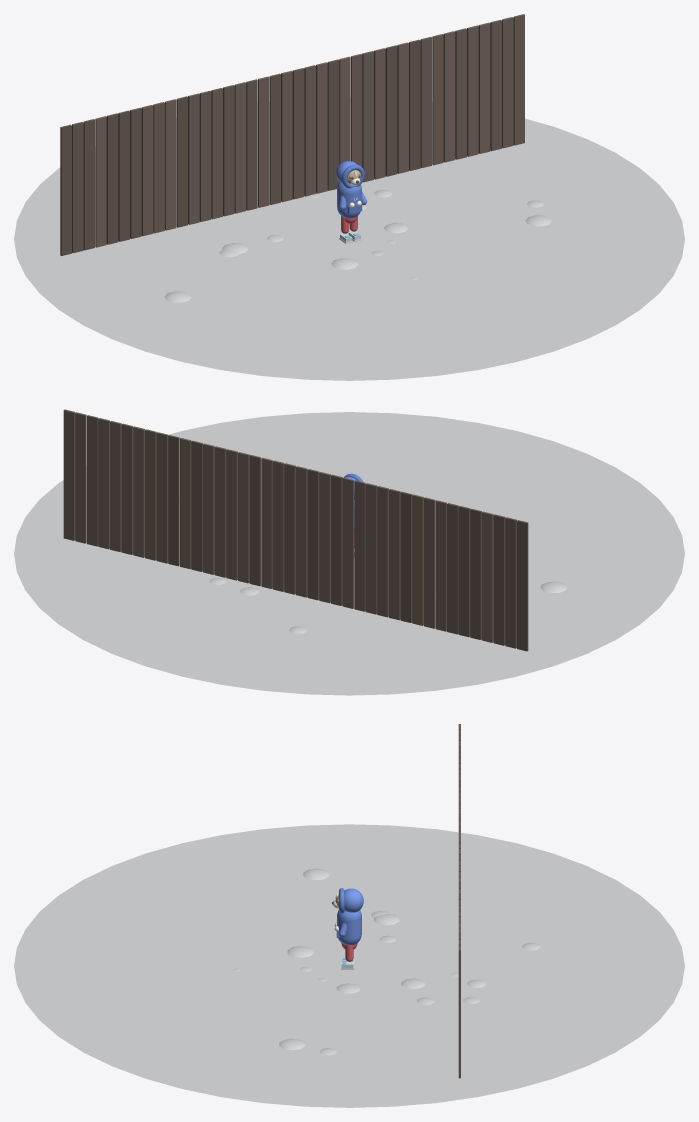
The model's file is dog_lis.glb.
The picture shows the model from 3 angles, top to bottom: view 1: azimuth 30°, elevation 25°; view 2: azimuth 150°, elevation 25°; view 3: azimuth 270°, elevation 25°; orthographic projection.
Size of the model in its own units: 28 by 6.26 by 28.
67 materials, 1 textured.
